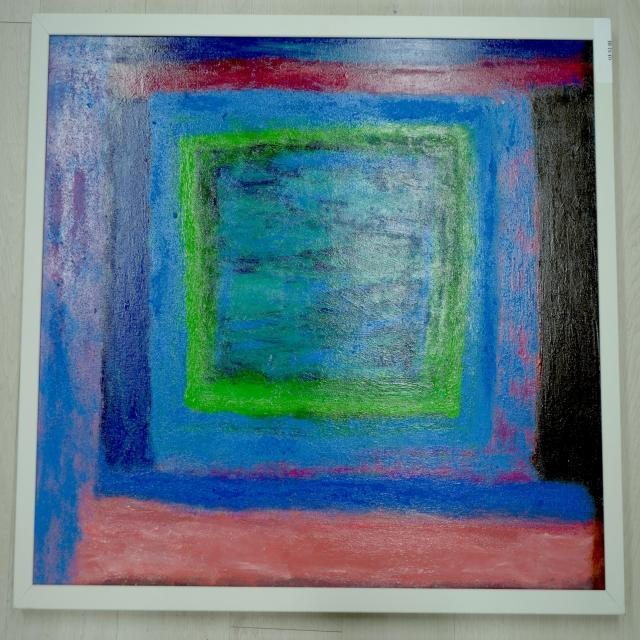painting: (13, 13, 626, 615)
